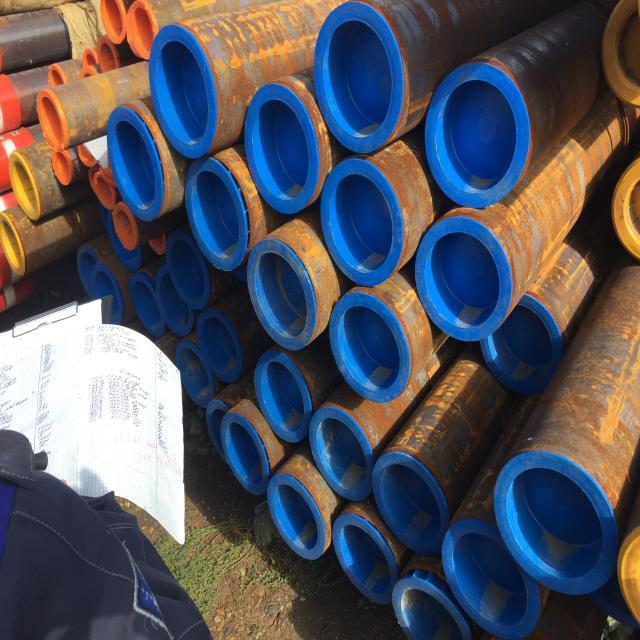pipe: (493, 450, 617, 594), (424, 60, 528, 207), (312, 2, 403, 151), (415, 216, 511, 342), (441, 518, 539, 640), (320, 158, 402, 287), (243, 82, 318, 215), (329, 291, 410, 403), (149, 23, 216, 158), (479, 294, 562, 395), (372, 450, 449, 555), (248, 238, 316, 351), (185, 155, 247, 271), (107, 109, 163, 221), (332, 510, 398, 604), (309, 406, 373, 502), (255, 351, 312, 442), (392, 577, 473, 640), (267, 474, 325, 559), (220, 413, 269, 495), (165, 230, 208, 310), (197, 309, 241, 384), (156, 265, 194, 337), (175, 341, 214, 407), (129, 272, 165, 338), (106, 208, 142, 273), (91, 262, 124, 329), (9, 150, 39, 221), (36, 91, 68, 151), (126, 2, 156, 60), (206, 399, 232, 464), (0, 211, 25, 276), (76, 244, 100, 299), (112, 203, 137, 251), (100, 0, 125, 45), (93, 171, 115, 211), (51, 150, 73, 187), (97, 35, 119, 72), (76, 140, 98, 169), (48, 63, 66, 88), (82, 48, 97, 68)
